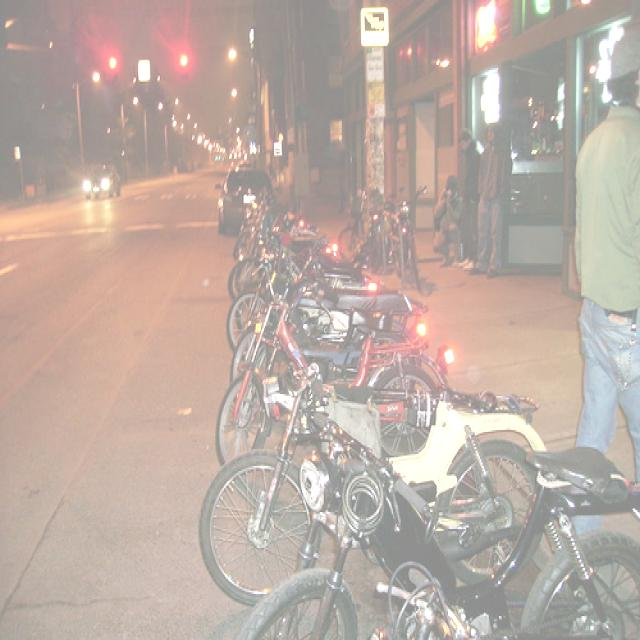Motorbike: (196, 175, 640, 640)
